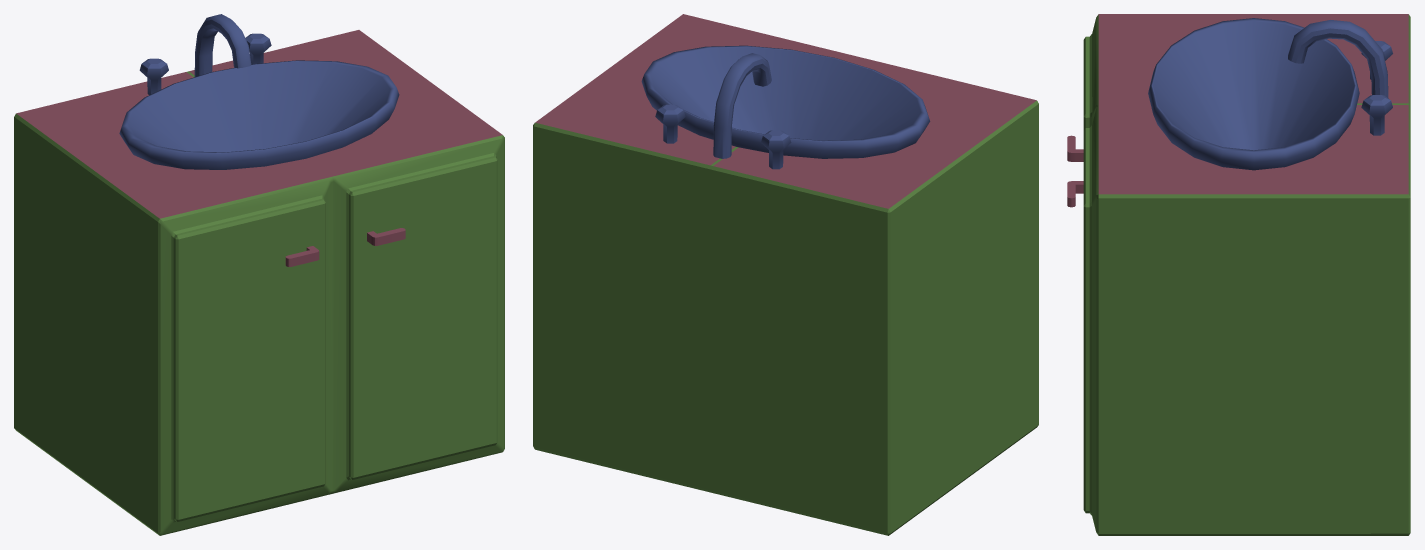
File: bathSink.fbx
3 renders of one model, left to right at view 1: azimuth 30°, elevation 25°; view 2: azimuth 150°, elevation 25°; view 3: azimuth 270°, elevation 25°, orthographic. The views are drawn at different scales.
Parts seen in each view (by area): view 1: handfat; view 2: handfat; view 3: handfat.
Boxes of the visible parts, x1=… form: handfat: x1=14, y1=14, x2=504, y2=535; handfat: x1=533, y1=14, x2=1038, y2=535; handfat: x1=1067, y1=14, x2=1410, y2=535.
Size of the model in its own units: 1.43 by 1.55 by 1.14.
